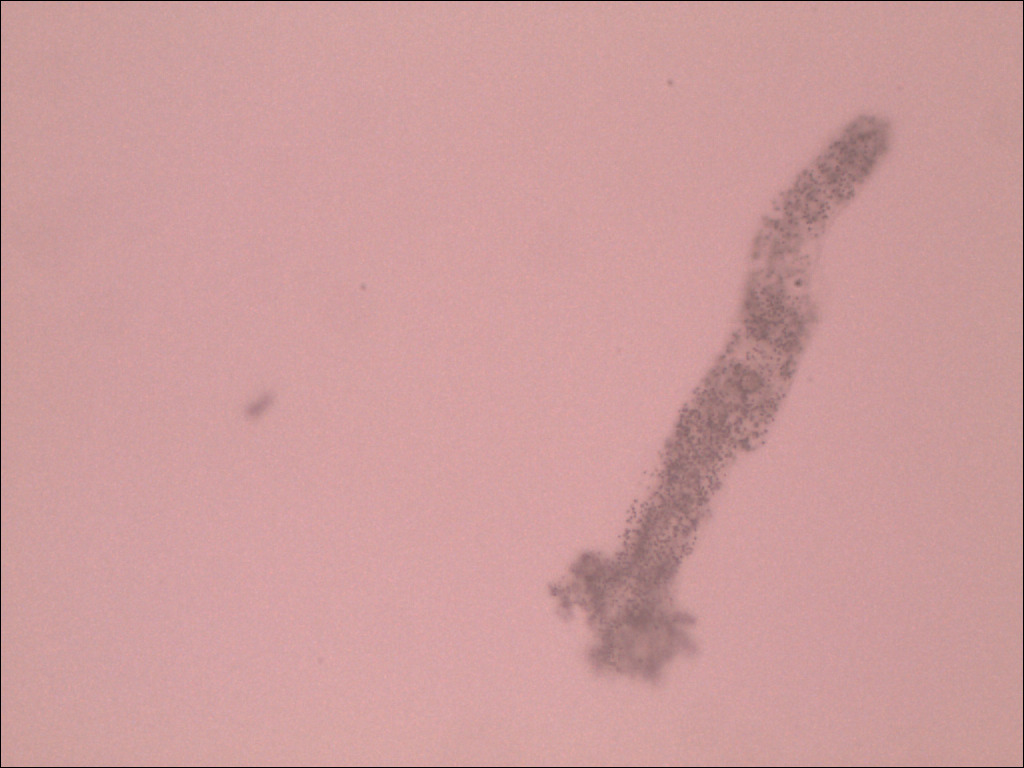amoeba: (539, 109, 912, 699)
